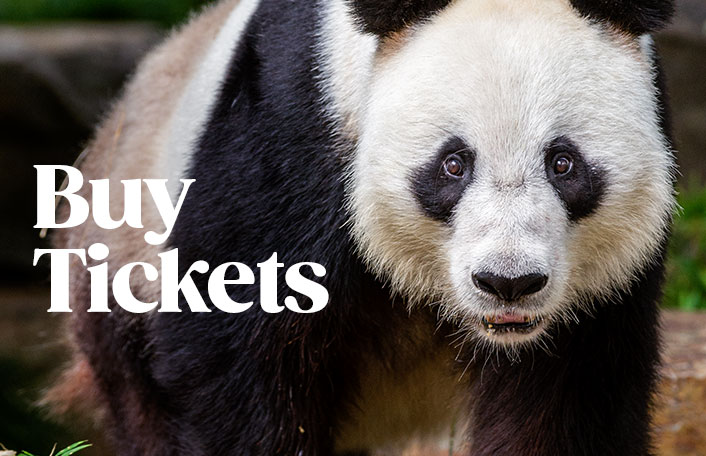Giant panda: (343, 0, 674, 360)
